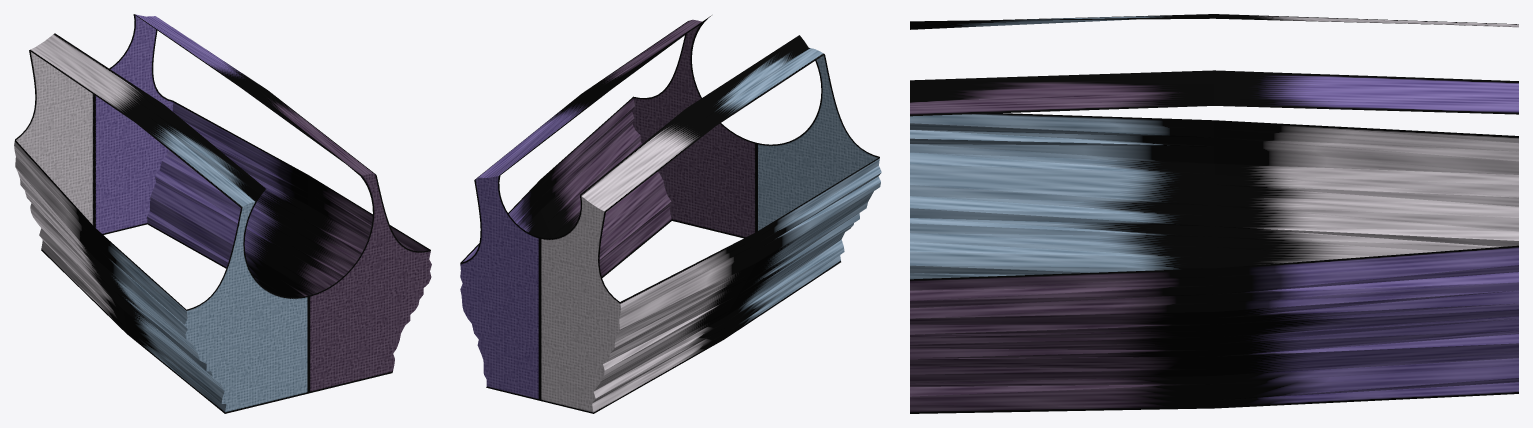
Rendered from tank_knit2_nodrop_boxmesh.obj.
3 views of the same model, side by side, from view 1: azimuth 30°, elevation 25°; view 2: azimuth 150°, elevation 25°; view 3: azimuth 270°, elevation 25° (orthographic). The views are drawn at different scales.
Bounding box in the file's own units: 36.59 × 31.16 × 55.
Materials: 1 (1 with a texture image).
